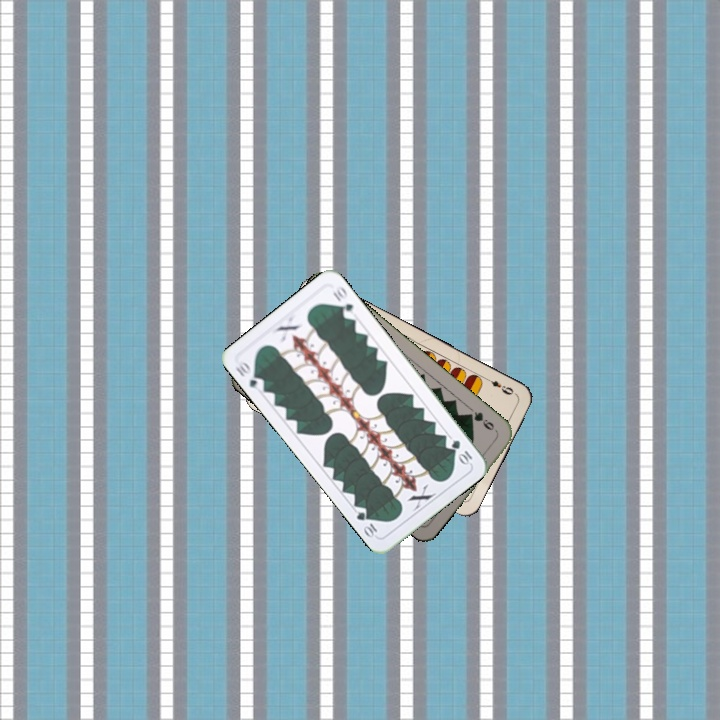E9: (481, 374, 519, 398)
G10: (232, 356, 267, 394), (447, 436, 475, 467)
G9: (463, 407, 497, 433)
